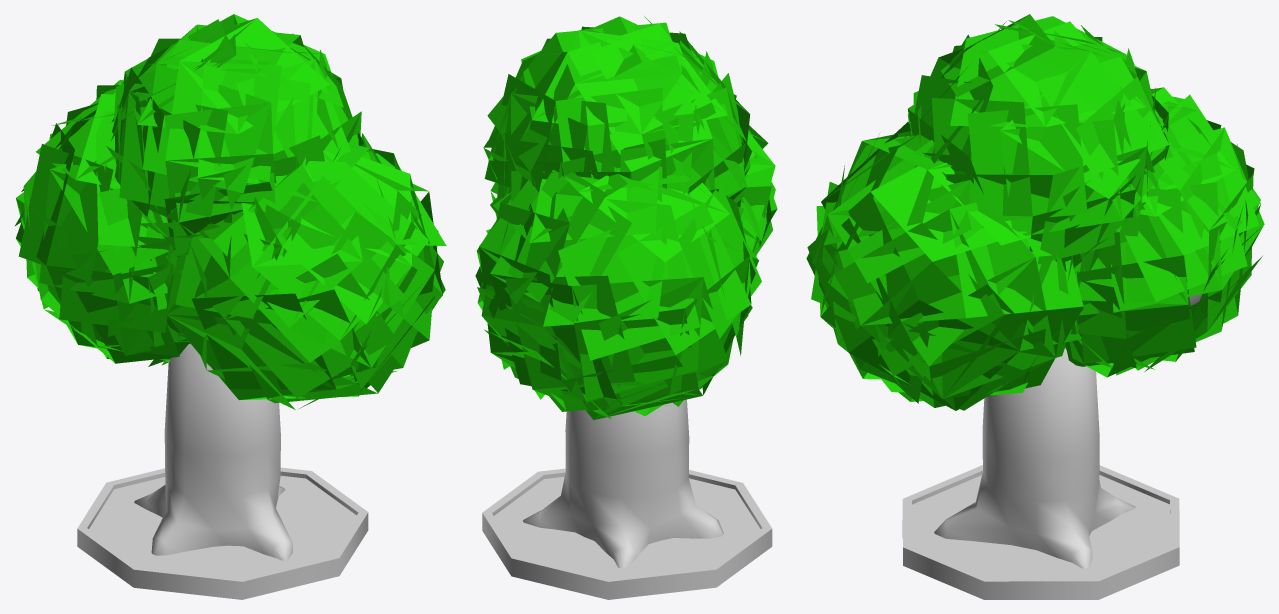
Rendered from Props_Tree_1.2.fbx.
3 renders of one model, left to right at view 1: azimuth 30°, elevation 25°; view 2: azimuth 150°, elevation 25°; view 3: azimuth 270°, elevation 25°, orthographic. The views are drawn at different scales.
Visible parts, largest first — view 1: Props_Tree_1; view 2: Props_Tree_1; view 3: Props_Tree_1.
Part boxes in pixels (left/top/right/bottom): Props_Tree_1: left=14, top=14, right=446, bottom=599; Props_Tree_1: left=475, top=16, right=777, bottom=599; Props_Tree_1: left=806, top=14, right=1264, bottom=599.
Bounding box in the file's own units: 427 × 660 × 530.
